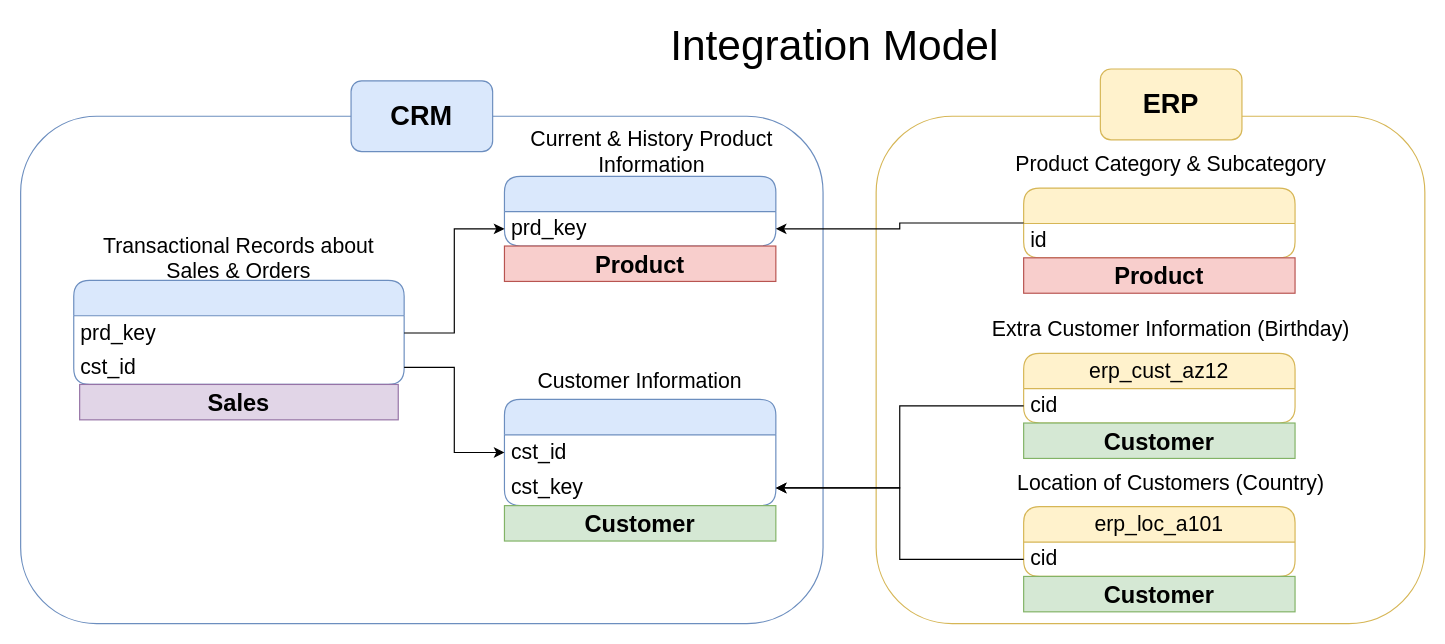
This 1445x644 diagram has some shape labels left out. The box of each missing label's shape, as (x1, y1, x2, y2) in pixels:
crm_cust_info: (503, 398, 776, 506)
crm_prd_info: (503, 175, 776, 246)
crm_sales_details: (73, 279, 404, 384)
erp_px_cat_g1v2: (1022, 187, 1295, 258)
